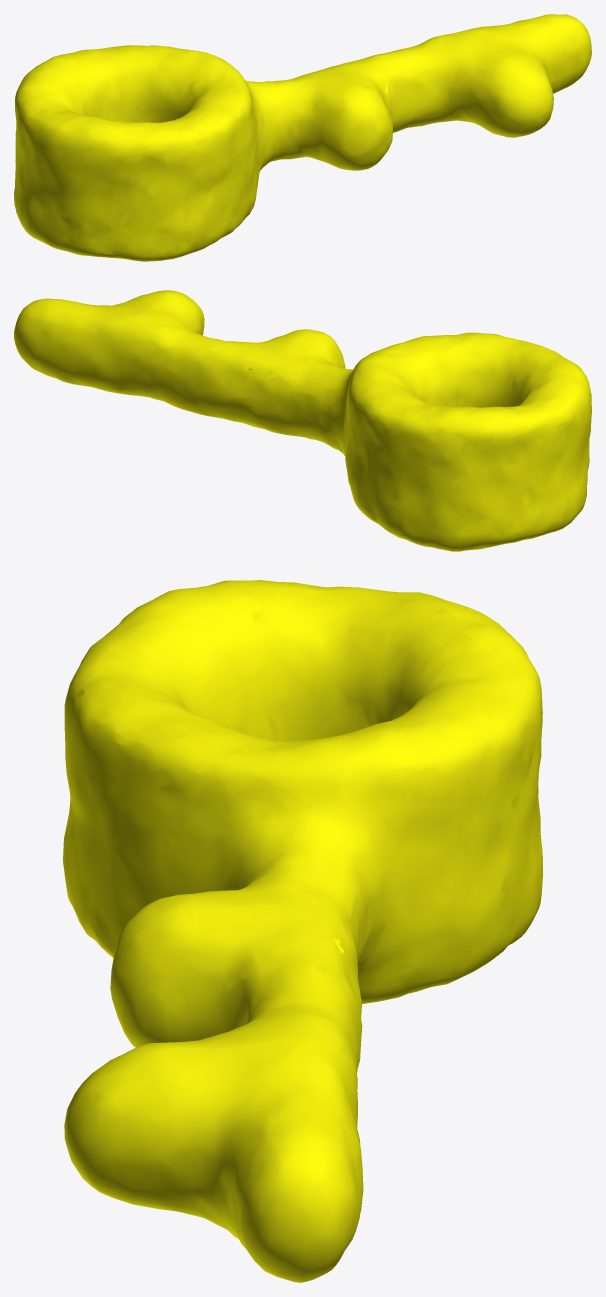
File: Llave.glb
3 views of the same model, one above another, from view 1: azimuth 30°, elevation 25°; view 2: azimuth 150°, elevation 25°; view 3: azimuth 270°, elevation 25° (orthographic). The views are drawn at different scales.
Parts seen in each view (by area): view 1: Cylinder; view 2: Cylinder; view 3: Cylinder.
Part boxes in pixels (x1=…): Cylinder: x1=14, y1=14, x2=591, y2=261; Cylinder: x1=14, y1=290, x2=591, y2=551; Cylinder: x1=63, y1=580, x2=542, y2=1282.
Size of the model in its own units: 5.14 by 1.21 by 1.92.
